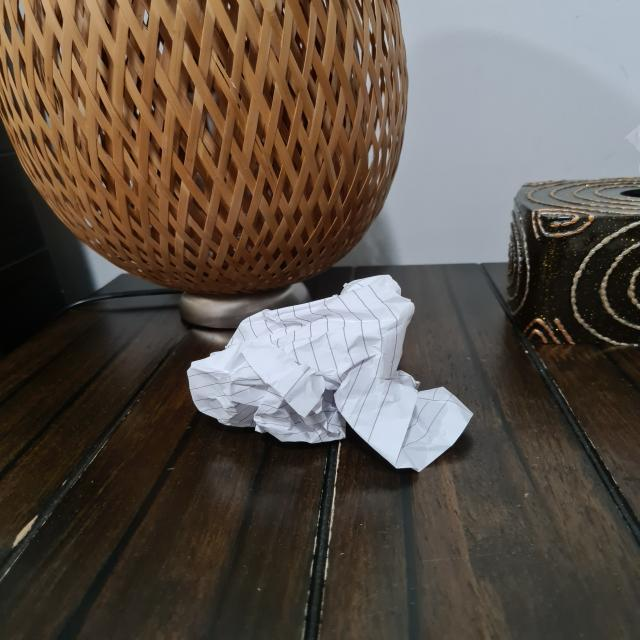Paper: (189, 278, 476, 473)
